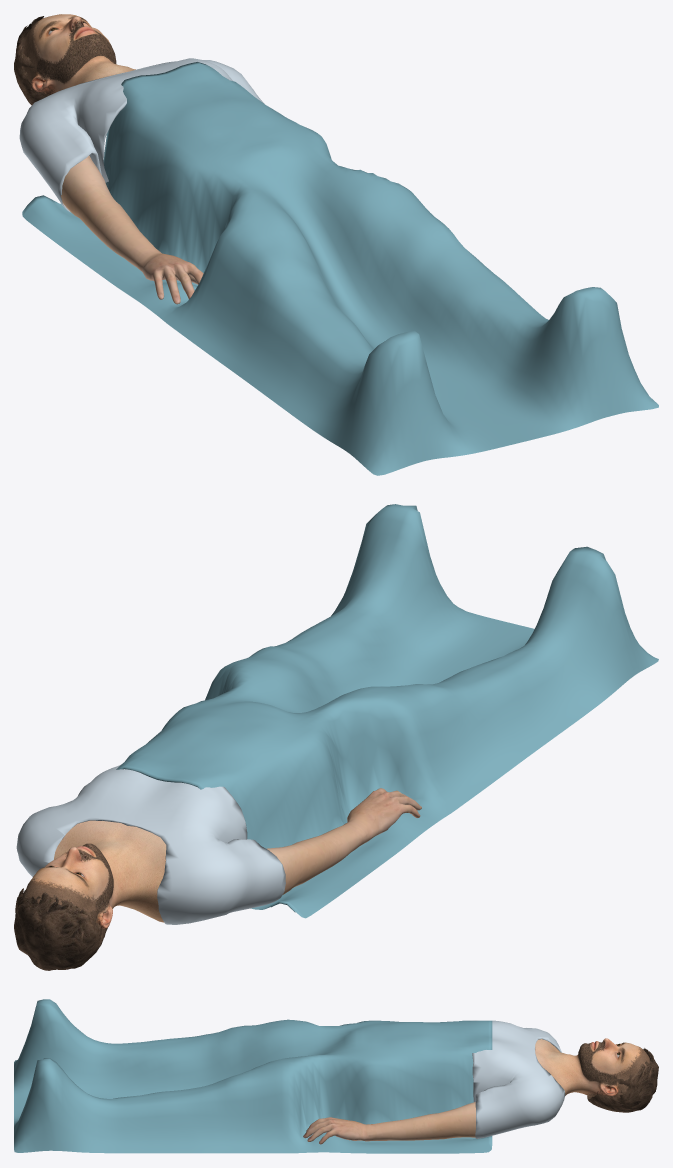
3 views of the same model, one above another, from view 1: azimuth 30°, elevation 25°; view 2: azimuth 150°, elevation 25°; view 3: azimuth 270°, elevation 25° (orthographic). The views are drawn at different scales.
Visible parts, largest first — view 1: sheet, gown, arms, body, hair; view 2: sheet, gown, body, hair, arms; view 3: sheet, gown, body, arms, hair.
Part boxes in pixels (x1,y1,x2,y2): sheet: [22, 62, 658, 475]; gown: [19, 58, 264, 212]; arms: [61, 155, 203, 304]; body: [22, 14, 135, 94]; hair: [14, 16, 49, 105]; sheet: [116, 504, 658, 918]; gown: [16, 764, 285, 924]; body: [25, 820, 166, 929]; hair: [14, 888, 107, 970]; arms: [266, 788, 421, 894]; sheet: [14, 999, 492, 1153]; gown: [472, 1020, 565, 1138]; body: [535, 1038, 649, 1098]; arms: [303, 1102, 475, 1144]; hair: [587, 1048, 658, 1112].
Bounding box in the file's own units: 0.6413 × 0.2437 × 1.87.
Materials: 8 (6 with a texture image).
